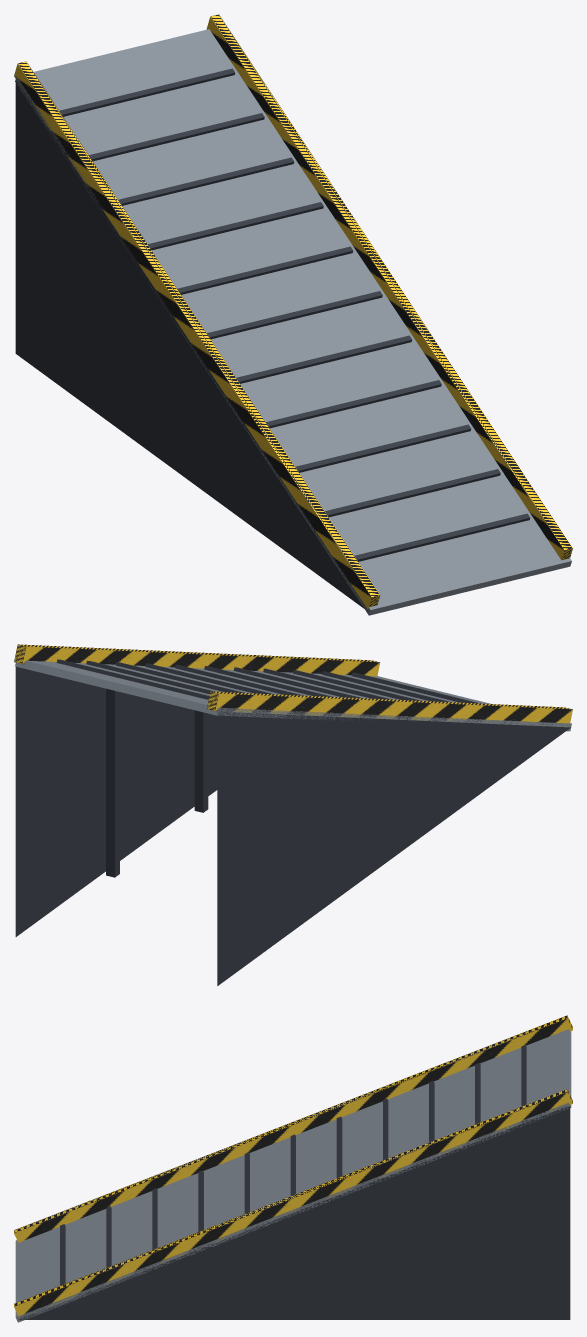
Rendered from ramp.glb.
3 renders of one model, top to bottom at view 1: azimuth 30°, elevation 25°; view 2: azimuth 150°, elevation 25°; view 3: azimuth 270°, elevation 25°, orthographic. The views are drawn at different scales.
Visible parts, largest first — view 1: Ramp_RampPlate, Ramp_RampFrame, Ramp_RampStripe; view 2: Ramp_RampFrame, Ramp_RampStripe, Ramp_RampPlate; view 3: Ramp_RampFrame, Ramp_RampPlate, Ramp_RampStripe.
Part boxes in pixels (left/top/right/bottom): Ramp_RampPlate: left=15, top=29, right=571, bottom=615; Ramp_RampFrame: left=15, top=68, right=530, bottom=611; Ramp_RampStripe: left=14, top=14, right=572, bottom=609; Ramp_RampFrame: left=15, top=659, right=570, bottom=985; Ramp_RampStripe: left=14, top=644, right=572, bottom=726; Ramp_RampPlate: left=15, top=660, right=571, bottom=731; Ramp_RampFrame: left=19, top=1045, right=570, bottom=1319; Ramp_RampPlate: left=15, top=1029, right=571, bottom=1322; Ramp_RampStripe: left=14, top=1015, right=572, bottom=1318.
Bounding box in the file's own units: 2.3 × 3.22 × 7.07.
Materials: 3 (1 with a texture image).
